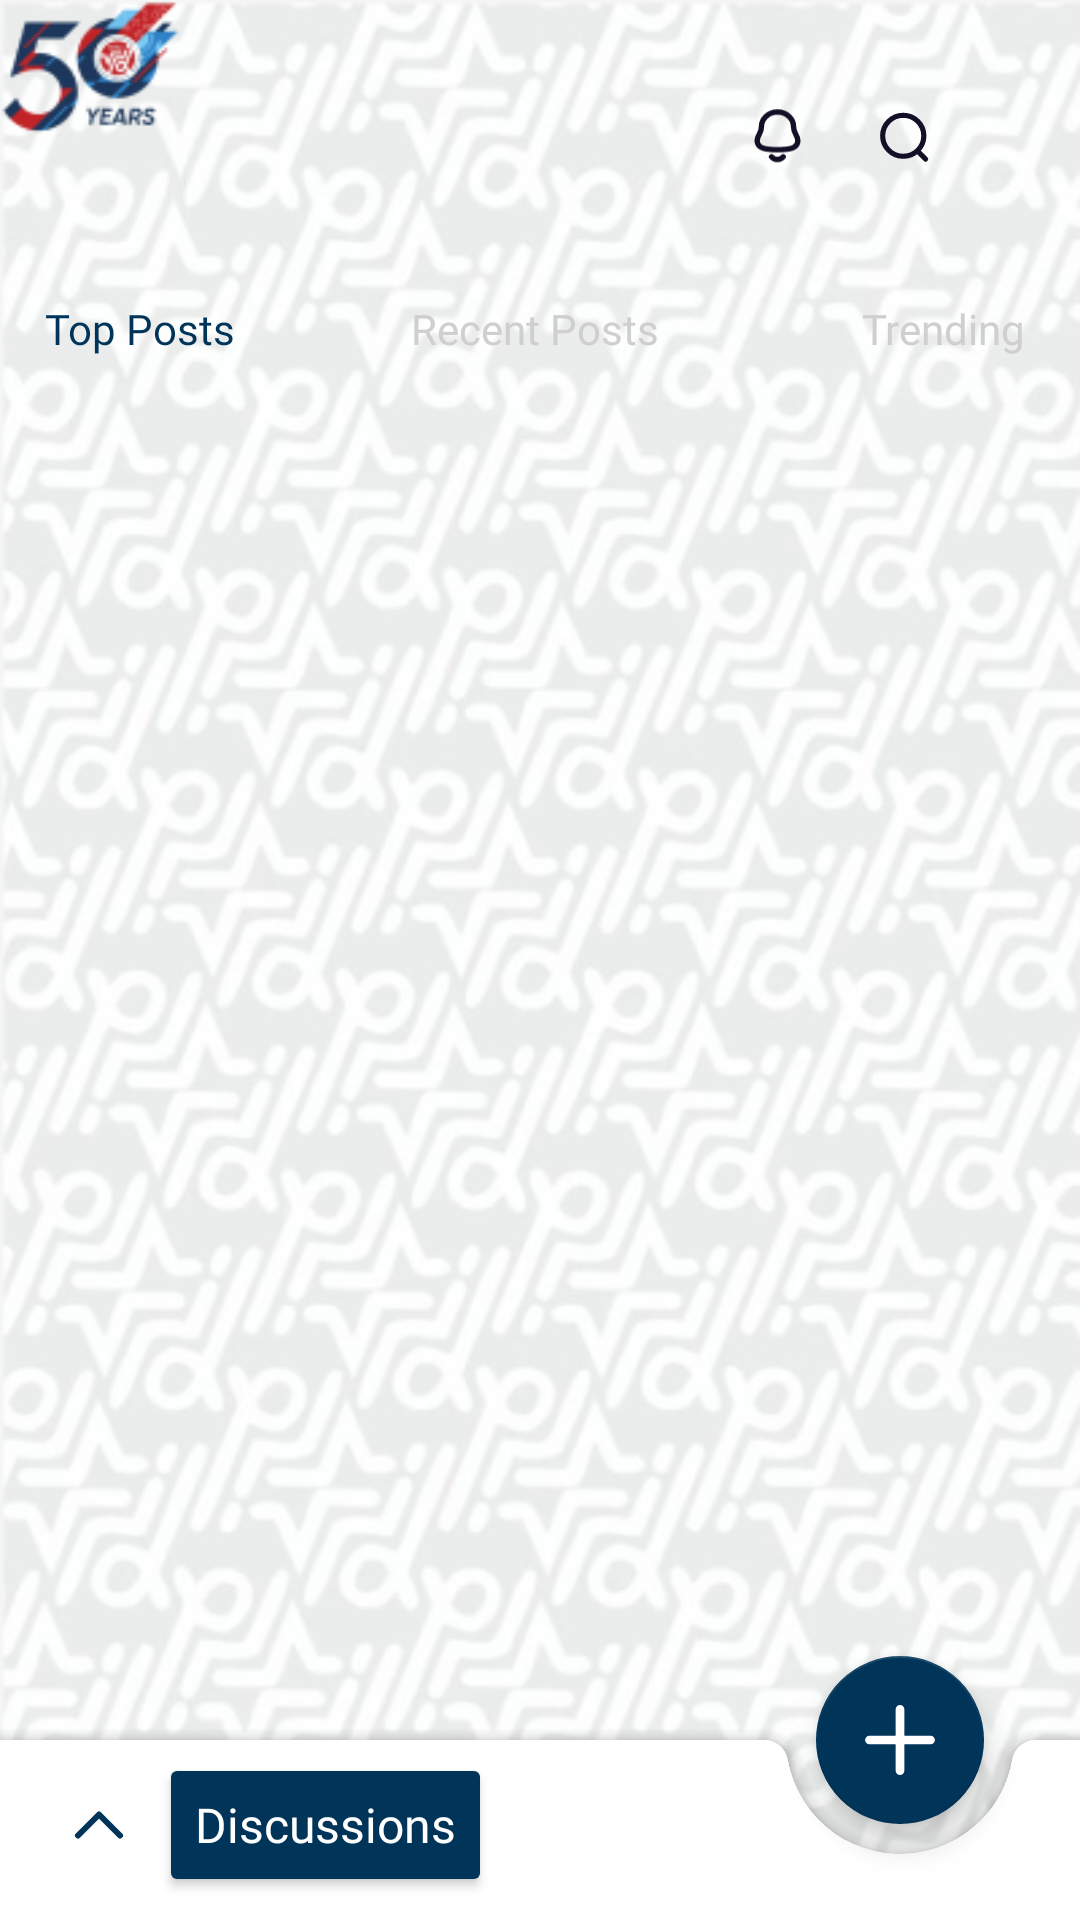

Icons on this 1080 × 1920 Android screen, each with the point to tap as (x,y):
arrow up: (99,1825)
notif: (777,136)
search: (904,137)
